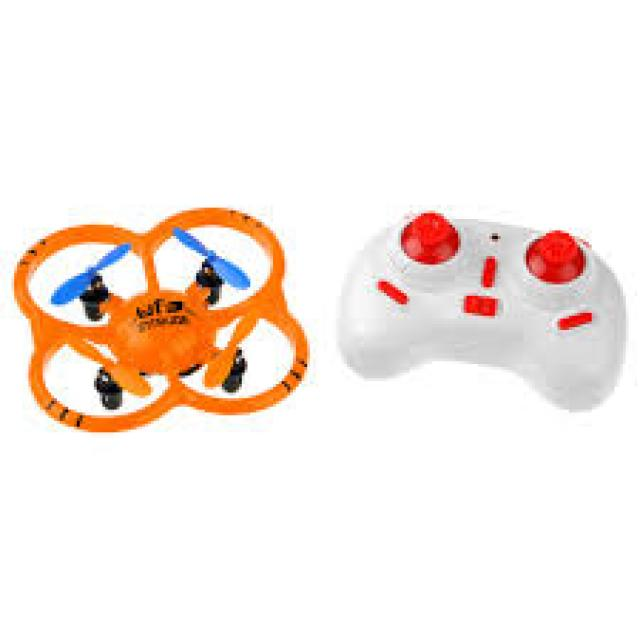drone: (0, 176, 337, 455)
